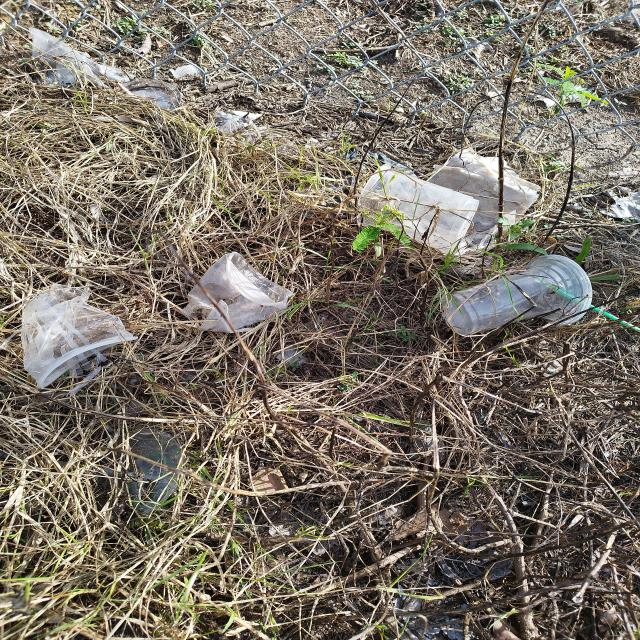drinking straw: (534, 278, 640, 332)
plastic glass: (442, 255, 592, 337), (357, 164, 478, 243)
